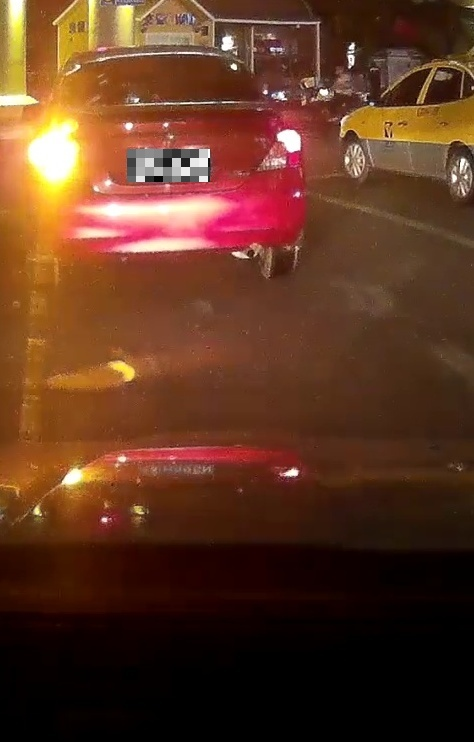L_light: (34, 136, 83, 180)
R_light: (254, 128, 301, 171)
T_light: (135, 53, 178, 63)
night-left: (27, 45, 306, 286)
plate_1: (127, 149, 210, 182)
